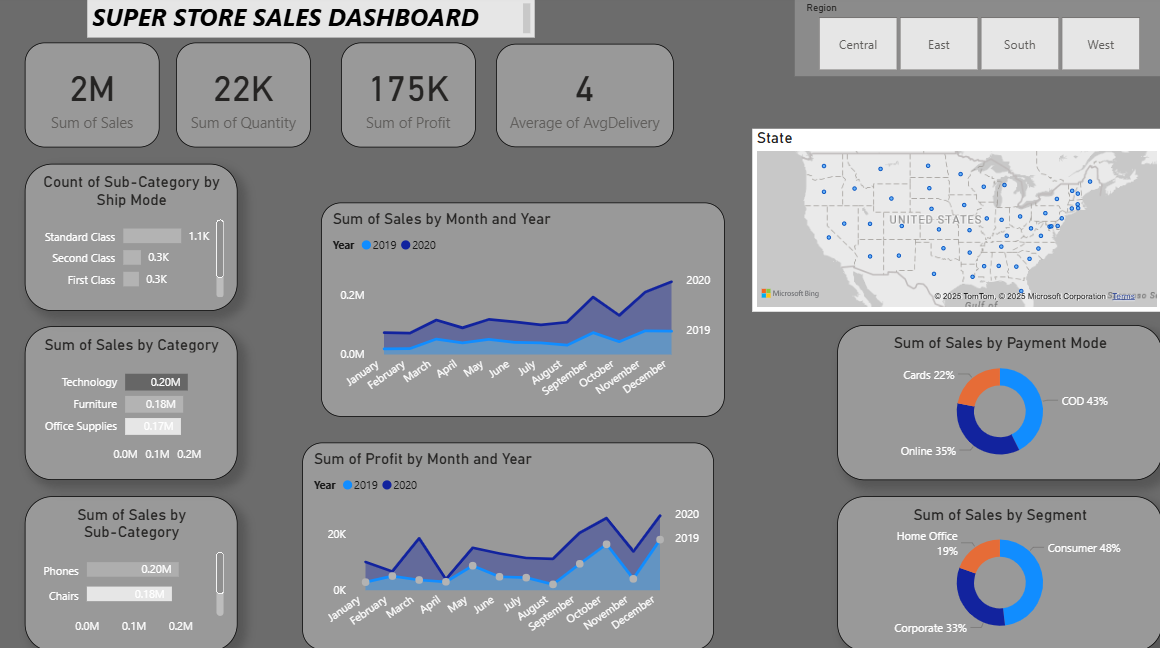

This screenshot's page, from the dashboard's own definition file:
{"tool":"powerbi","page":{"name":"Page 1","canvas":[1280,720],"ordinal":0},"visuals":[{"type":"clusteredBarChart","fields":{"Category":["SuperStore_Sales_Dataset.Sub-Category"],"Y":["Sum(SuperStore_Sales_Dataset.Sales)"]},"box":[31.6,550.3,233.3,170.2],"z":0},{"type":"clusteredBarChart","fields":{"Category":["SuperStore_Sales_Dataset.Category"],"Y":["Sum(SuperStore_Sales_Dataset.Sales)"]},"box":[31.6,363.6,233.3,168.8],"z":1000},{"type":"clusteredBarChart","fields":{"Category":["SuperStore_Sales_Dataset.Ship Mode"],"Y":["CountNonNull(SuperStore_Sales_Dataset.Sub-Category)"]},"box":[31.6,185.2,233.3,161.9],"z":2000},{"type":"stackedAreaChart","fields":{"Y":["Sum(SuperStore_Sales_Dataset.Sales)"],"Category":["SuperStore_Sales_Dataset.Order Date.Variation.Date Hierarchy.Month","SuperStore_Sales_Dataset.Order Date.Variation.Date Hierarchy.Day"],"Series":["SuperStore_Sales_Dataset.Order Date.Variation.Date Hierarchy.Year"]},"box":[356.7,228.3,443.3,235],"z":3000},{"type":"stackedAreaChart","fields":{"Category":["SuperStore_Sales_Dataset.Order Date.Variation.Date Hierarchy.Month","SuperStore_Sales_Dataset.Order Date.Variation.Date Hierarchy.Day"],"Series":["SuperStore_Sales_Dataset.Order Date.Variation.Date Hierarchy.Year"],"Y":["Sum(SuperStore_Sales_Dataset.Profit)"]},"box":[336.7,491.7,451.7,228.3],"z":4000},{"type":"map","fields":{"Category":["SuperStore_Sales_Dataset.State"]},"box":[830,146.7,450,200],"z":5000},{"type":"donutChart","fields":{"Category":["SuperStore_Sales_Dataset.Segment"],"Y":["Sum(SuperStore_Sales_Dataset.Sales)"]},"box":[923.3,550,356.7,170],"z":6000},{"type":"donutChart","fields":{"Y":["Sum(SuperStore_Sales_Dataset.Sales)"],"Category":["SuperStore_Sales_Dataset.Payment Mode"]},"box":[923.3,361.7,356.7,170],"z":7000},{"type":"slicer","fields":{"Values":["SuperStore_Sales_Dataset.Region"]},"box":[876.7,3.3,403.3,86.7],"z":8000},{"type":"card","fields":{"Values":["Sum(SuperStore_Sales_Dataset.Sales)"]},"box":[16.7,50,148.3,115],"z":9000},{"type":"card","fields":{"Values":["Sum(SuperStore_Sales_Dataset.Quantity)"]},"box":[208.3,46.7,148.3,115],"z":10000},{"type":"card","fields":{"Values":["Sum(SuperStore_Sales_Dataset.Profit)"]},"box":[378.3,50,148.3,115],"z":11000},{"type":"card","fields":{"Values":["Avg(SuperStore_Sales_Dataset.averagedelivery)"]},"box":[546.7,51.7,148.3,115],"z":12000}]}

Visuals, with their boxes in screenshot pixels (x1, y1, x2, y2), scaled from the page's 1280x720 canvas onto the 1160x648 screenshot:
clusteredBarChart - SuperStore_Sales_Dataset.Sub-Category x Sum(SuperStore_Sales_Dataset.Sales): x1=29, y1=495, x2=240, y2=647
clusteredBarChart - SuperStore_Sales_Dataset.Category x Sum(SuperStore_Sales_Dataset.Sales): x1=29, y1=327, x2=240, y2=479
clusteredBarChart - SuperStore_Sales_Dataset.Ship Mode x CountNonNull(SuperStore_Sales_Dataset.Sub-Category): x1=29, y1=167, x2=240, y2=312
stackedAreaChart - Sum(SuperStore_Sales_Dataset.Sales) x SuperStore_Sales_Dataset.Order Date.Variation.Date Hierarchy.Month: x1=323, y1=205, x2=725, y2=417
stackedAreaChart - SuperStore_Sales_Dataset.Order Date.Variation.Date Hierarchy.Month x SuperStore_Sales_Dataset.Order Date.Variation.Date Hierarchy.Day: x1=305, y1=443, x2=714, y2=647
map - SuperStore_Sales_Dataset.State: x1=752, y1=132, x2=1159, y2=312
donutChart - SuperStore_Sales_Dataset.Segment x Sum(SuperStore_Sales_Dataset.Sales): x1=837, y1=495, x2=1159, y2=647
donutChart - Sum(SuperStore_Sales_Dataset.Sales) x SuperStore_Sales_Dataset.Payment Mode: x1=837, y1=326, x2=1159, y2=479
slicer - SuperStore_Sales_Dataset.Region: x1=795, y1=3, x2=1159, y2=81
card - Sum(SuperStore_Sales_Dataset.Sales): x1=15, y1=45, x2=150, y2=148
card - Sum(SuperStore_Sales_Dataset.Quantity): x1=189, y1=42, x2=323, y2=146
card - Sum(SuperStore_Sales_Dataset.Profit): x1=343, y1=45, x2=477, y2=148
card - Avg(SuperStore_Sales_Dataset.averagedelivery): x1=495, y1=47, x2=630, y2=150
